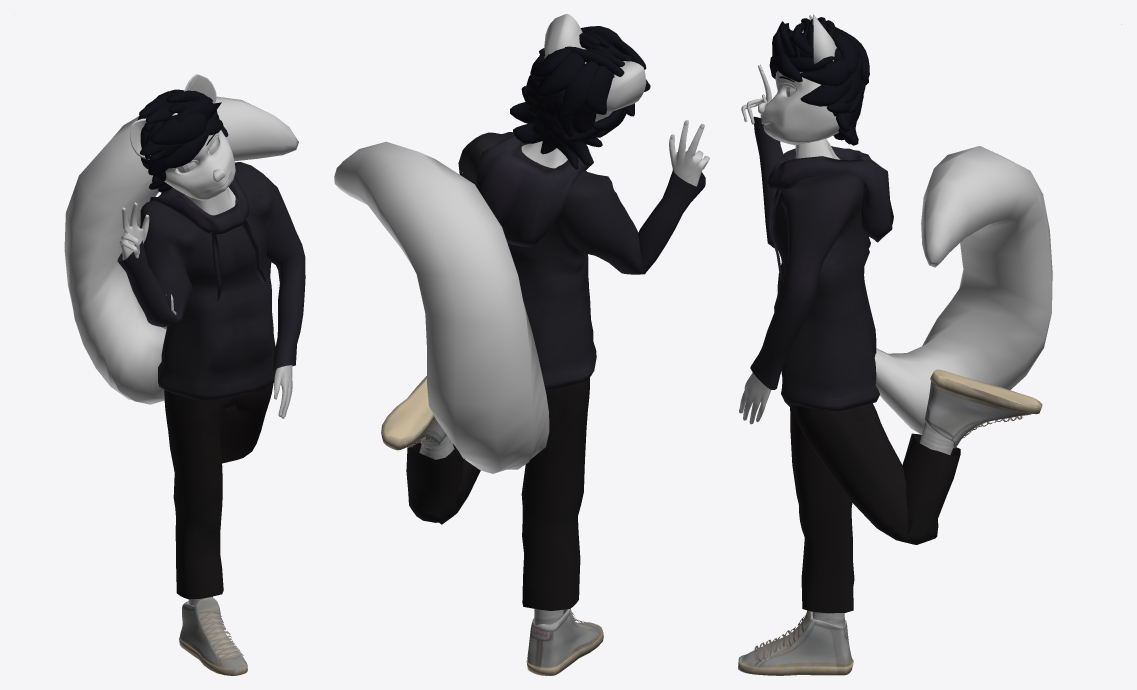
File: withone.obj
3 views of the same model, side by side, from view 1: azimuth 30°, elevation 25°; view 2: azimuth 150°, elevation 25°; view 3: azimuth 270°, elevation 25° (orthographic). The views are drawn at different scales.
Parts seen in each view (by area): view 1: body; view 2: body; view 3: body.
Part boxes in pixels (x1,y1,x2,y2): body: (64,74,305,675); body: (334,14,709,675); body: (738,14,1122,675).
Size of the model in its own units: 0.8961 by 1.94 by 1.04.
